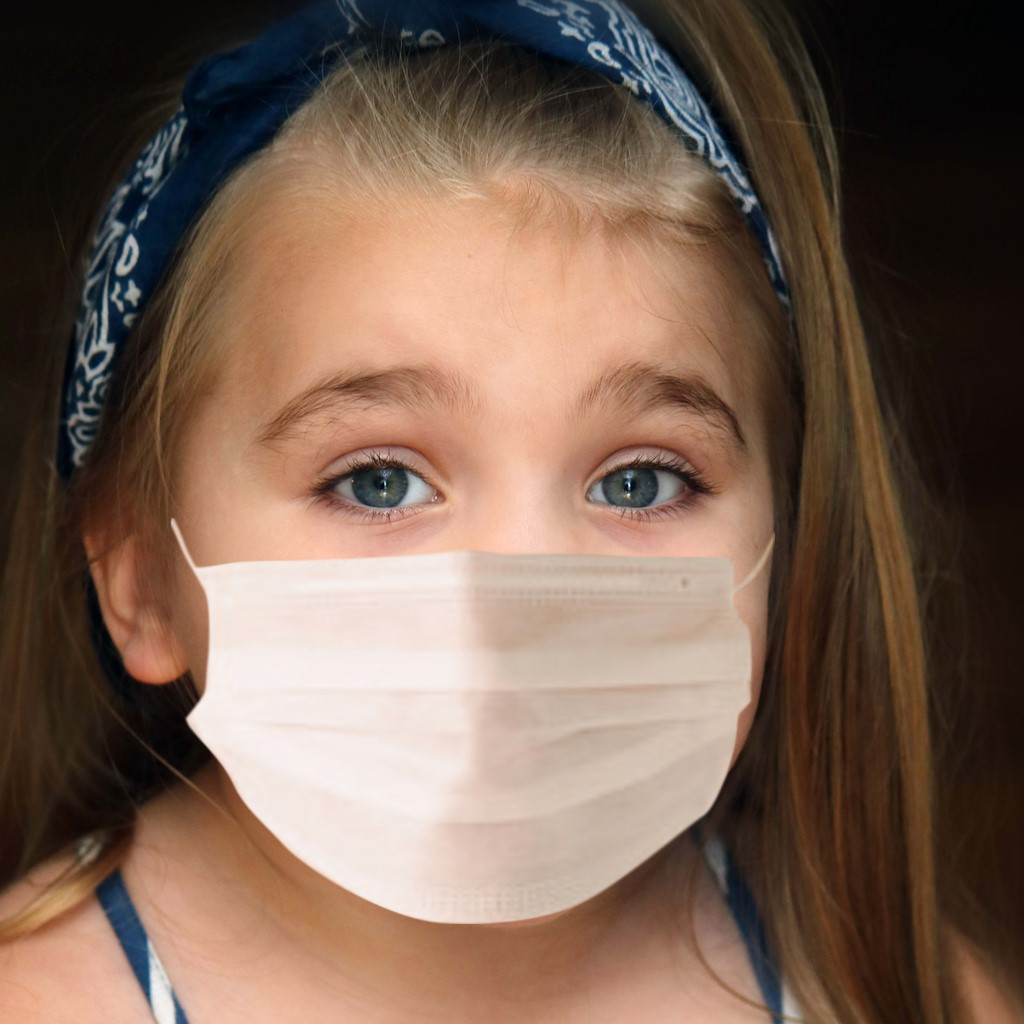con_mascara: (143, 100, 827, 916)
